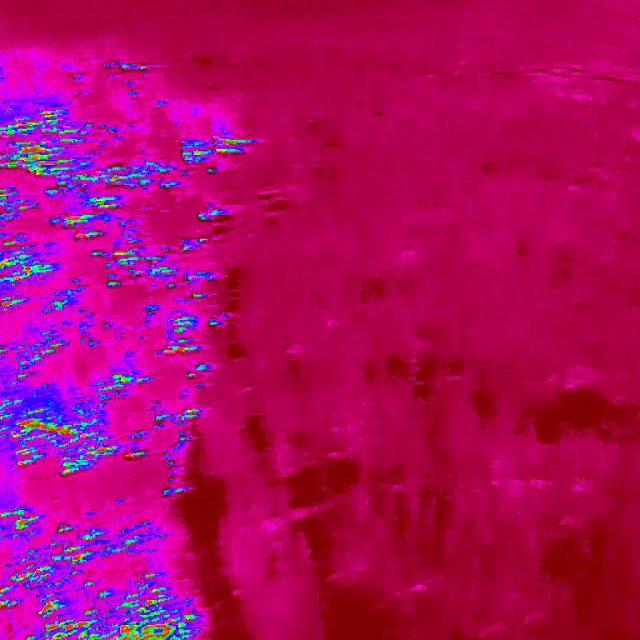fire: (54, 164, 184, 278), (0, 400, 146, 476), (28, 584, 210, 640), (0, 190, 64, 312), (0, 101, 83, 180), (0, 500, 55, 609), (46, 522, 142, 568), (84, 359, 158, 400), (163, 290, 207, 355), (0, 338, 64, 382), (182, 134, 256, 162), (152, 403, 204, 426)
